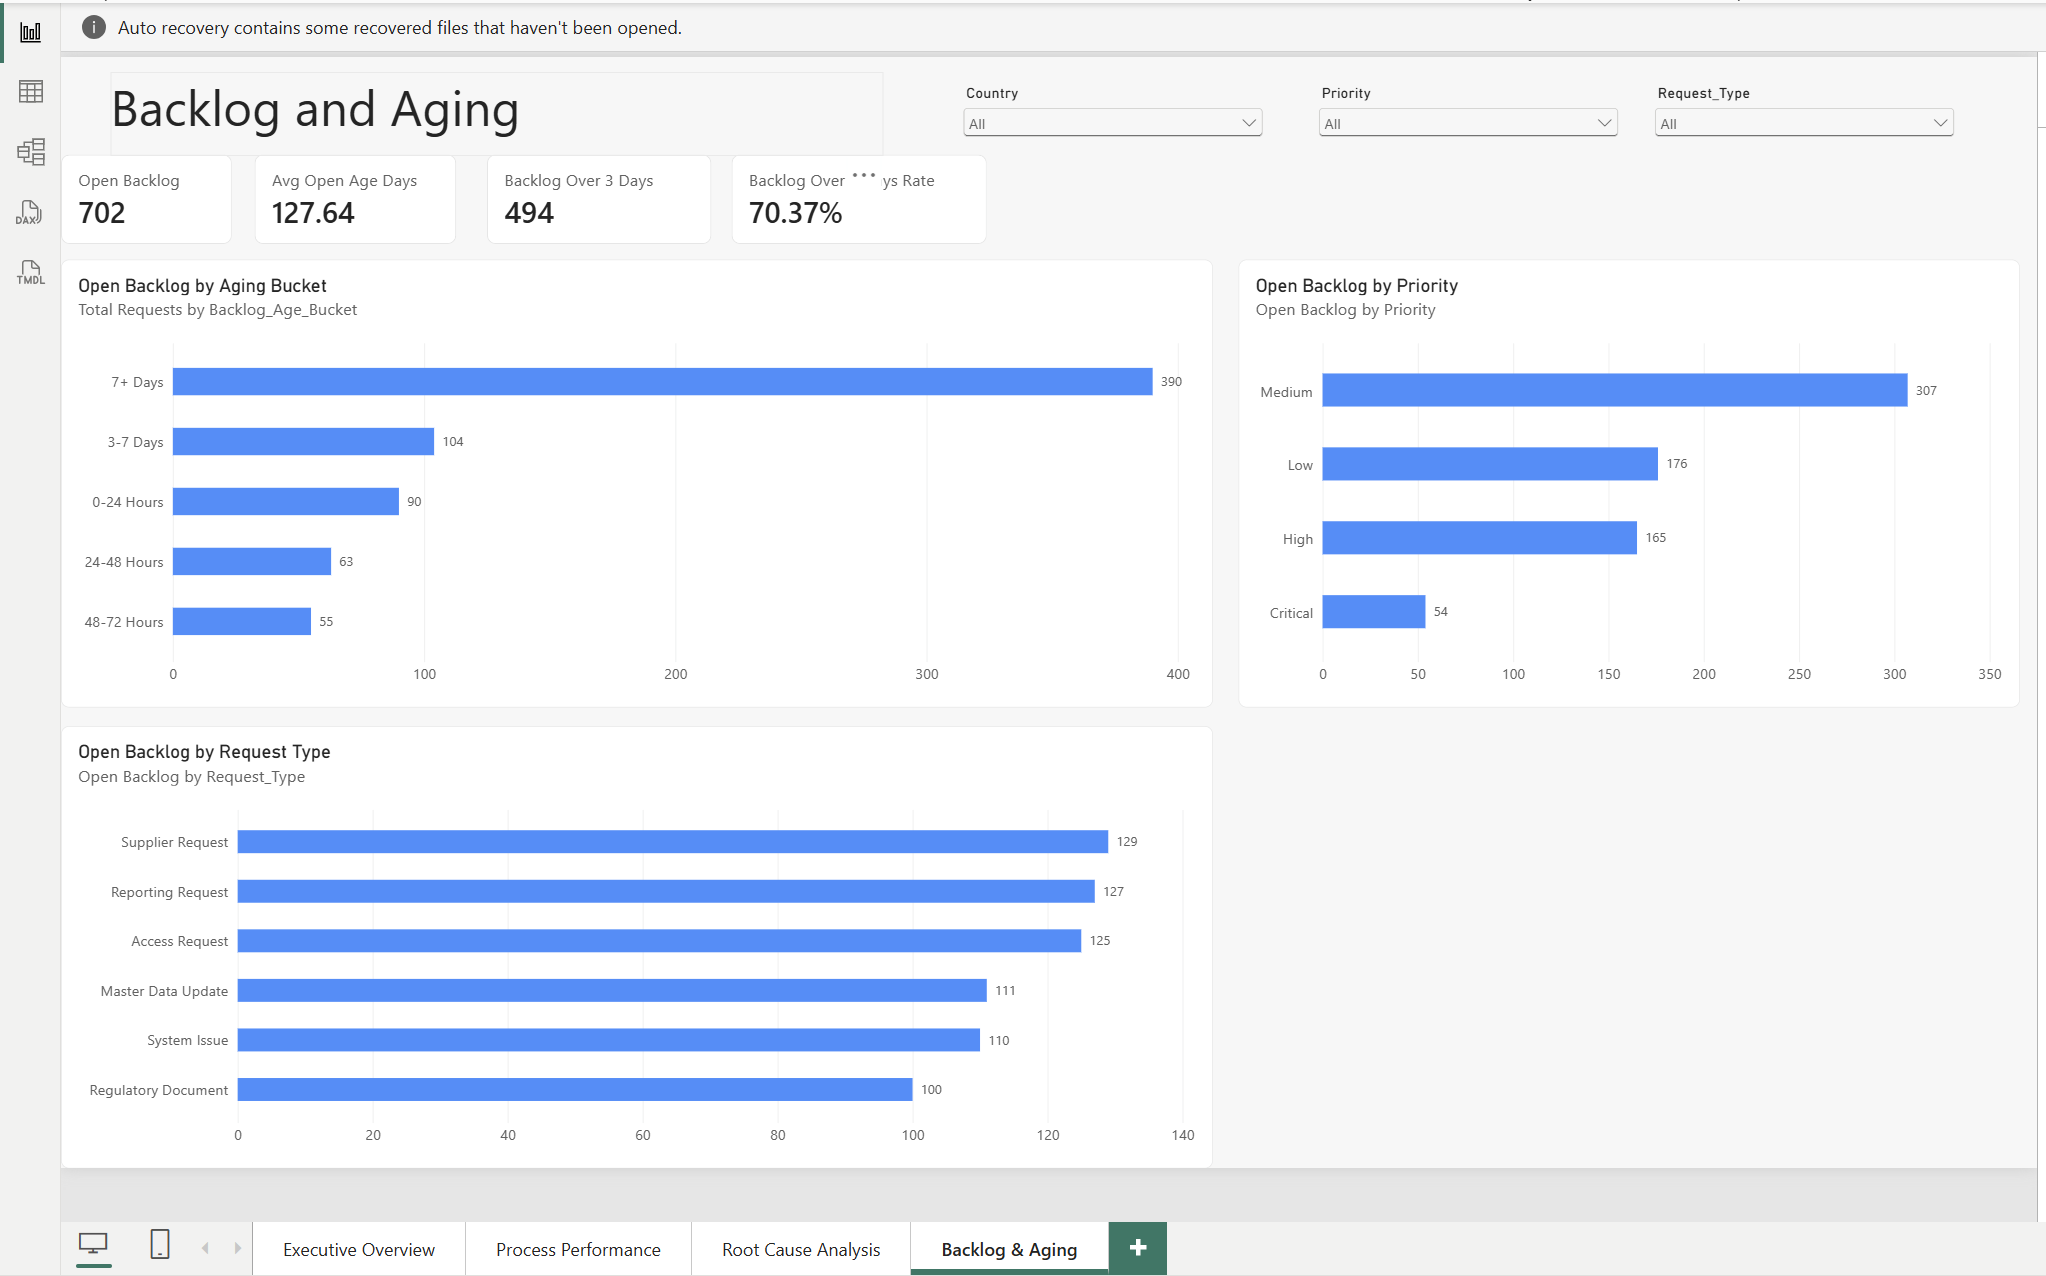

The page's visual inventory and layout, read from the dashboard file:
{"tool":"powerbi","page":{"name":"Backlog & Aging","canvas":[1920,1080],"ordinal":3},"visuals":[{"type":"cardVisual","fields":{"Data":["BusinessRequests.Open Backlog"]},"box":[0,95.2,166.3,87.2],"z":0},{"type":"cardVisual","fields":{"Data":["BusinessRequests.Avg Open Age Hours"]},"box":[188,94.9,197,87.7],"z":1},{"type":"cardVisual","fields":{"Data":["BusinessRequests.Backlog Over 3 Days"]},"box":[413.6,94.9,218.4,87.7],"z":2},{"type":"cardVisual","fields":{"Data":["BusinessRequests.Backlog Over 3 Days Rate"]},"box":[651.7,94.9,248.9,87.7],"z":3},{"type":"clusteredBarChart","title":"Open Backlog by Aging Bucket","fields":{"Category":["BusinessRequests.Backlog_Age_Bucket"],"Y":["BusinessRequests.Total Requests"]},"box":[0,197,1119.1,435.1],"z":4},{"type":"clusteredBarChart","title":"Open Backlog by Request Type","fields":{"Category":["BusinessRequests.Request_Type"],"Y":["BusinessRequests.Open Backlog"]},"box":[0,650,1119.1,429.7],"z":5},{"type":"clusteredBarChart","title":"Open Backlog by Priority","fields":{"Category":["BusinessRequests.Priority"],"Y":["BusinessRequests.Open Backlog"]},"box":[1144.1,197,759.2,435.1],"z":6},{"type":"textbox","box":[48.3,14.3,750.2,82.4],"z":7},{"type":"slicer","fields":{"Values":["BusinessRequests.Country"]},"box":[872,26.9,300.8,69.8],"z":8},{"type":"slicer","fields":{"Values":["BusinessRequests.Priority"]},"box":[1217.5,26.9,300.8,69.8],"z":9},{"type":"slicer","fields":{"Values":["BusinessRequests.Request_Type"]},"box":[1543.4,26.9,300.8,69.8],"z":10}]}

Visuals, with their boxes on the page's 1920x1080 design canvas (x1, y1, x2, y2). These are canvas units, not pixel positions in the 2046x1276 screenshot, which may show the page scaled, cropped or inside an application window:
cardVisual - BusinessRequests.Open Backlog: [0,95,166,182]
cardVisual - BusinessRequests.Avg Open Age Hours: [188,95,385,183]
cardVisual - BusinessRequests.Backlog Over 3 Days: [414,95,632,183]
cardVisual - BusinessRequests.Backlog Over 3 Days Rate: [652,95,901,183]
"Open Backlog by Aging Bucket" clusteredBarChart: [0,197,1119,632]
"Open Backlog by Request Type" clusteredBarChart: [0,650,1119,1080]
"Open Backlog by Priority" clusteredBarChart: [1144,197,1903,632]
textbox: [48,14,798,97]
slicer - BusinessRequests.Country: [872,27,1173,97]
slicer - BusinessRequests.Priority: [1218,27,1518,97]
slicer - BusinessRequests.Request_Type: [1543,27,1844,97]
